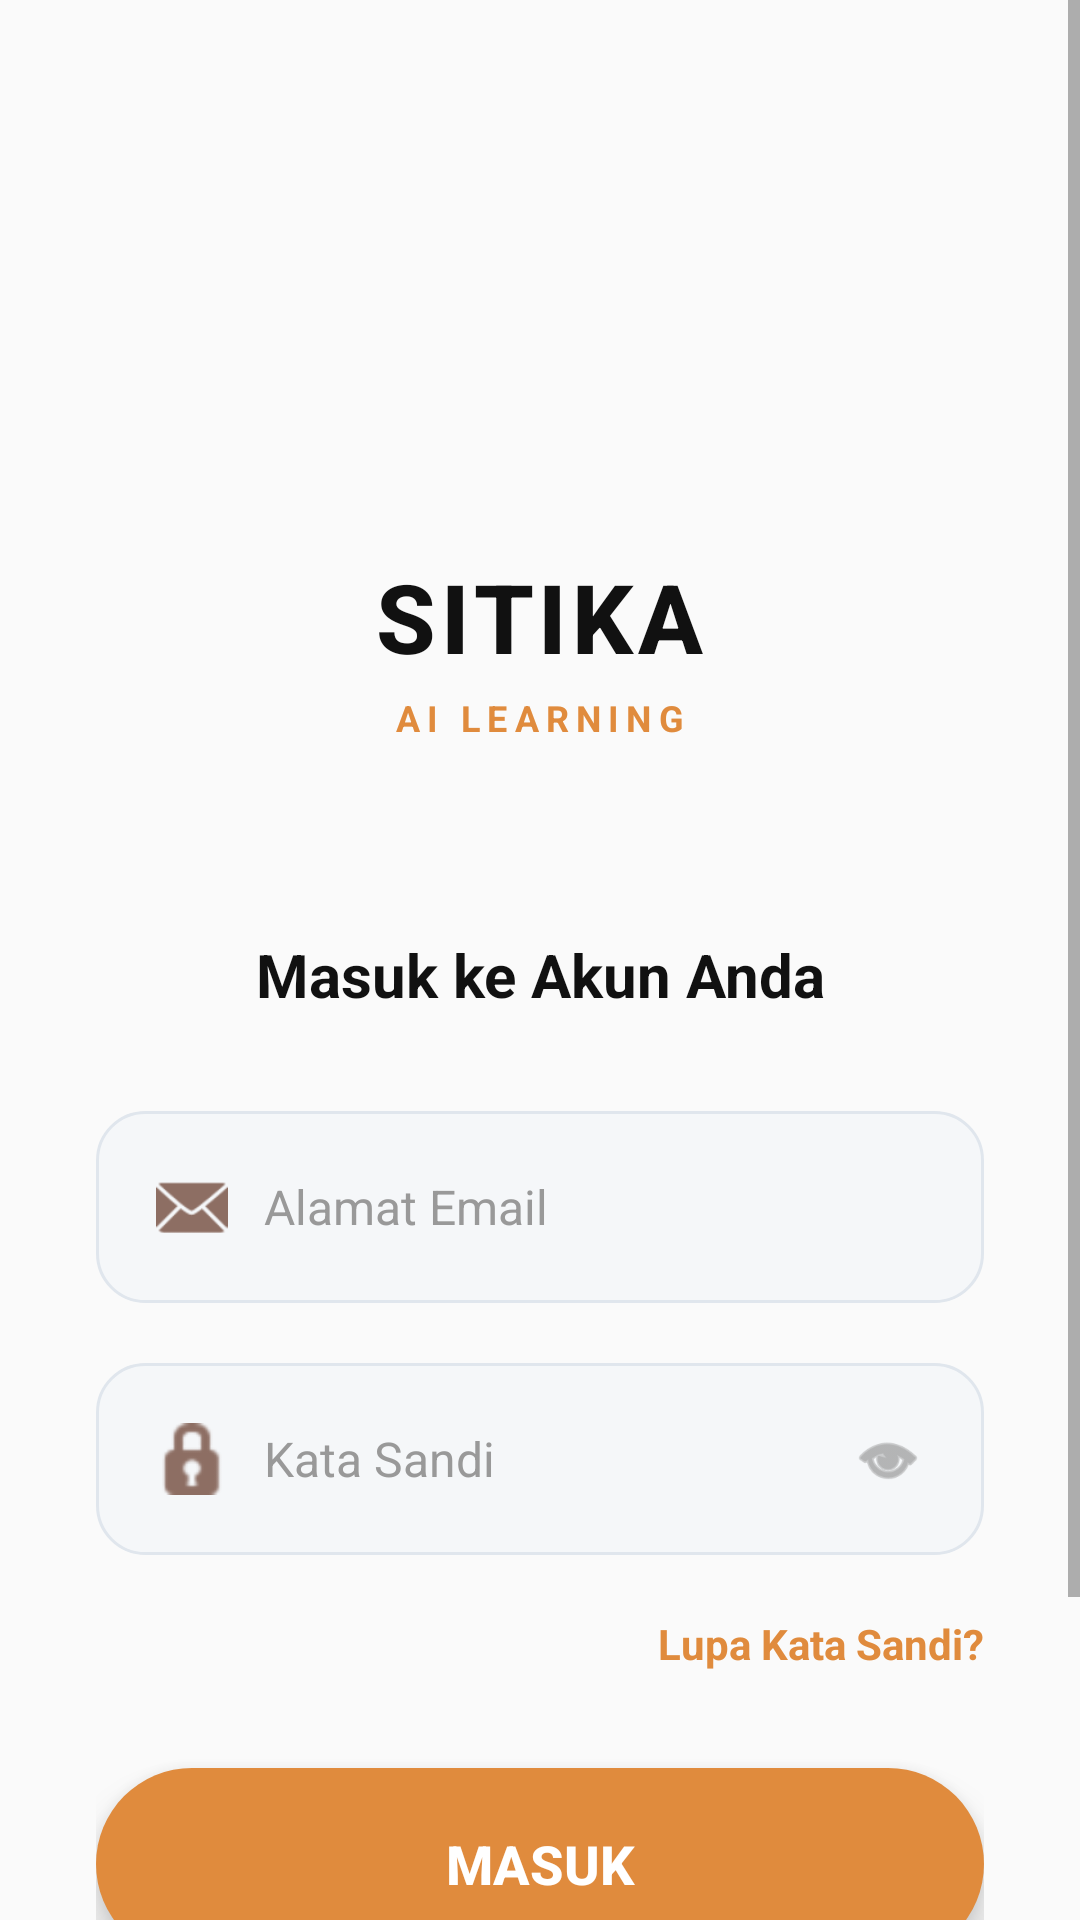

Icons on this 1080px x 1920px Android screen, each with its box as (x1=x1, y1=y1, x2=x2, y2=y2):
secure: (x1=164, y1=1423, x2=220, y2=1495)
view: (x1=859, y1=1443, x2=917, y2=1479)
